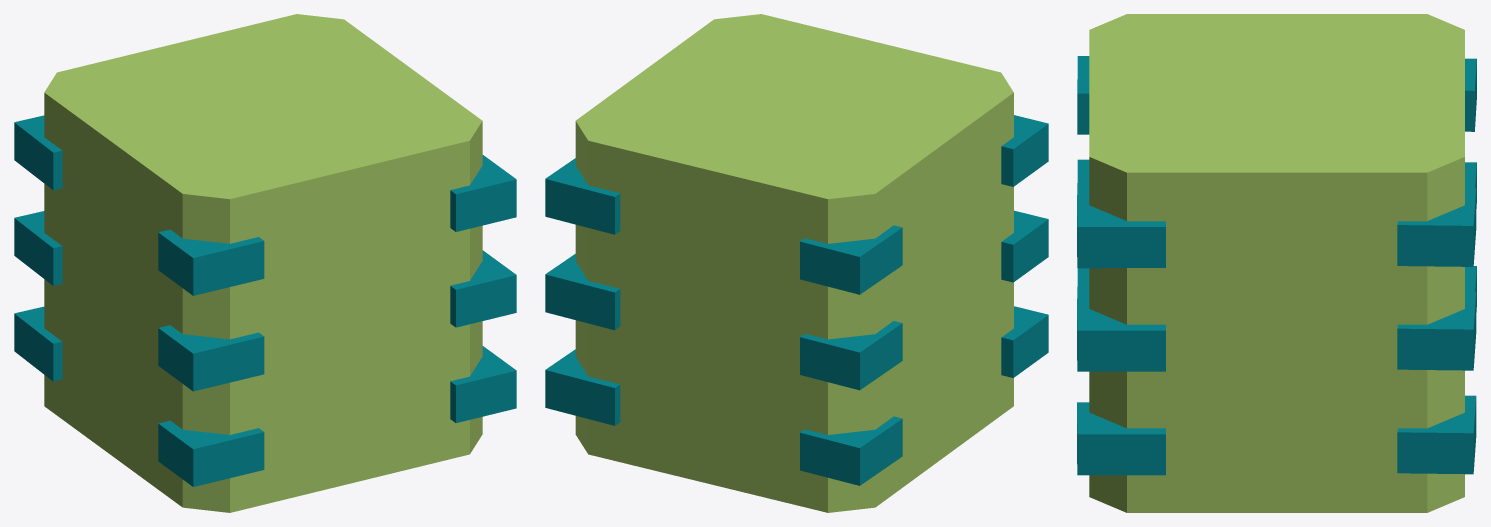
File: Generic Center BlueGreen.fbx
3 views of the same model, side by side, from view 1: azimuth 30°, elevation 25°; view 2: azimuth 150°, elevation 25°; view 3: azimuth 270°, elevation 25° (orthographic). The views are drawn at different scales.
Visible parts, largest first — view 1: pCube16; view 2: pCube16; view 3: pCube16.
Boxes of the visible parts, x1=… form: pCube16: x1=14, y1=14, x2=516, y2=512; pCube16: x1=545, y1=14, x2=1048, y2=512; pCube16: x1=1077, y1=14, x2=1476, y2=512.
Bounding box in the file's own units: 2.16 × 2 × 2.13.
